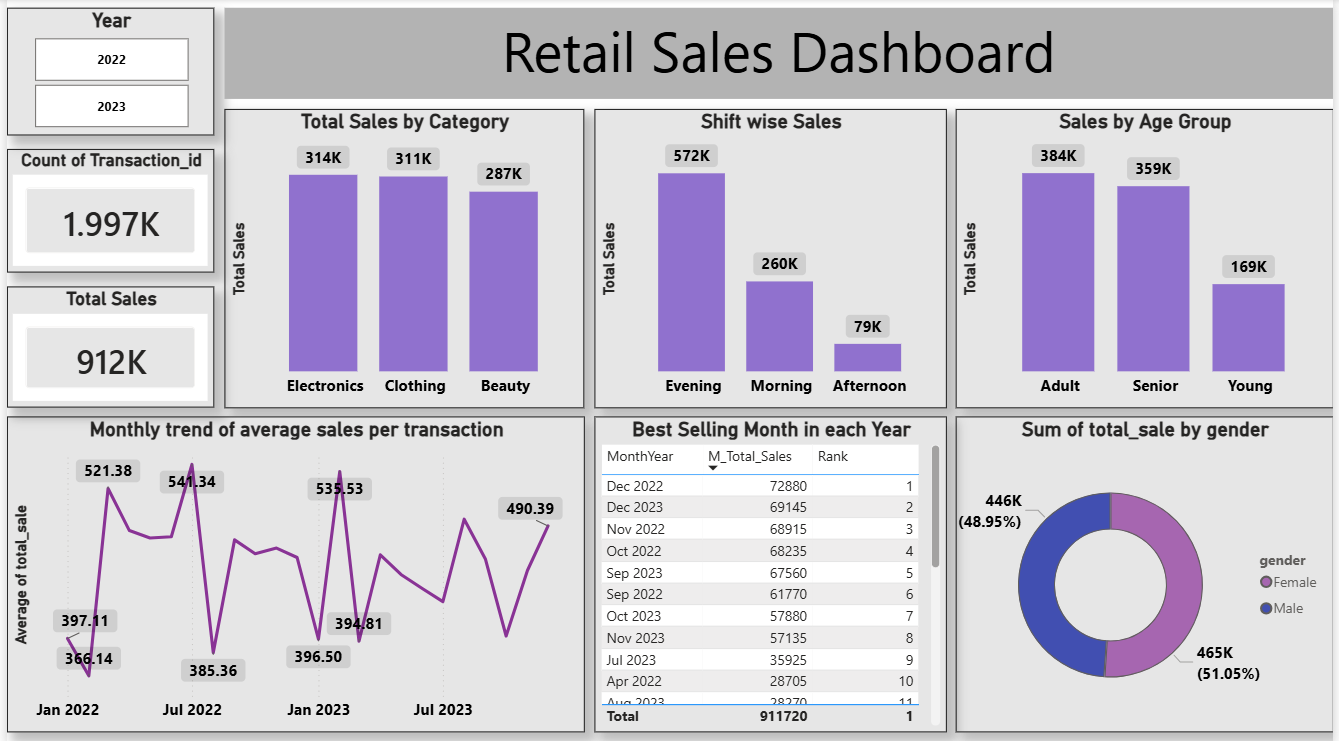

The page's visual inventory and layout, read from the dashboard file:
{"tool":"powerbi","page":{"name":"Page 1","canvas":[1280,720],"ordinal":0},"visuals":[{"type":"columnChart","title":"Total Sales by Category","fields":{"Category":["SQL - Retail Sales Analysis_utf.category"],"Y":["Sum(SQL - Retail Sales Analysis_utf.total_sale)"]},"box":[210.3,106.4,347.3,288.6],"z":0},{"type":"columnChart","title":"Shift wise Sales","fields":{"Category":["Retail_Data_.Day Shift"],"Y":["Sum(Retail_Data_.total_sale)"]},"box":[567.4,106.4,339.9,288.6],"z":1000},{"type":"lineChart","title":"Monthly trend of average sales per transaction","fields":{"Y":["Avg(Retail_Data_.total_sale)"],"Category":["Retail_Data_.sale_date.Variation.Date Hierarchy.Year","Retail_Data_.sale_date.Variation.Date Hierarchy.Month"]},"box":[0,403.5,557.6,304.5],"z":2000},{"type":"columnChart","title":"Sales by Age Group","fields":{"Category":["Retail_Data_.AgeGroup"],"Y":["Sum(Retail_Data_.total_sale)"]},"box":[915.9,106.4,364.4,288.6],"z":3000},{"type":"donutChart","fields":{"Category":["Retail_Data_.gender"],"Y":["Sum(Retail_Data_.total_sale)"]},"box":[915.9,403.5,364.4,304.5],"z":4000},{"type":"tableEx","title":"Best Selling Month in each Year","fields":{"Values":["Retail_Data_.MonthYear","Retail_Data_.M_Total_Sales","Retail_Data_.Rank"]},"box":[567.4,403.5,339.9,304.5],"z":5000},{"type":"cardVisual","title":"Count of Transaction_id","fields":{"Data":["CountNonNull(Retail_Data_.transactions_id)"]},"box":[0,144.8,200.3,119.4],"z":6000},{"type":"cardVisual","title":"Total Sales","fields":{"Data":["Retail_Data_.M_Total_Sales"]},"box":[0,277.5,200.3,117],"z":7000},{"type":"slicer","title":"Year","fields":{"Values":["Retail_Data_.Year"]},"box":[0,8.4,200.3,123.1],"z":8000},{"type":"textbox","box":[209.9,8.4,1070.1,88.1],"z":9000}]}

Visuals, with their boxes in screenshot pixels (x1, y1, x2, y2), scaled from the page's 1280x720 canvas onto the 1339x741 screenshot:
"Total Sales by Category" columnChart: BBox(220, 110, 583, 407)
"Shift wise Sales" columnChart: BBox(594, 110, 949, 407)
"Monthly trend of average sales per transaction" lineChart: BBox(0, 415, 583, 729)
"Sales by Age Group" columnChart: BBox(958, 110, 1338, 407)
donutChart - Retail_Data_.gender x Sum(Retail_Data_.total_sale): BBox(958, 415, 1338, 729)
"Best Selling Month in each Year" tableEx: BBox(594, 415, 949, 729)
"Count of Transaction_id" cardVisual: BBox(0, 149, 210, 272)
"Total Sales" cardVisual: BBox(0, 286, 210, 406)
"Year" slicer: BBox(0, 9, 210, 135)
textbox: BBox(220, 9, 1338, 99)
